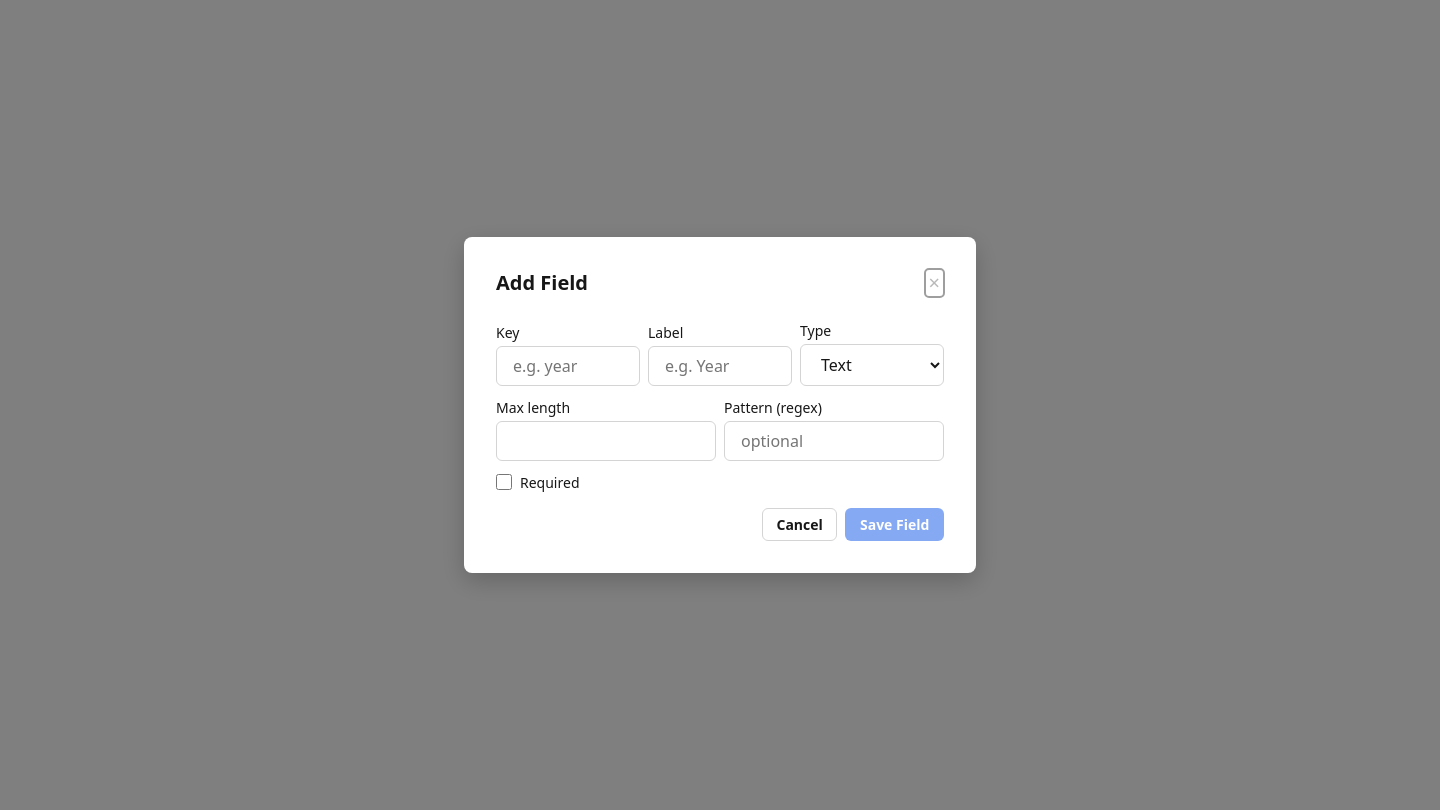
Test: MetadataFieldModal › rejects a duplicate key
Type "year" into the field labelled "Key" at coordinates (568, 366), box [496,346,640,386]
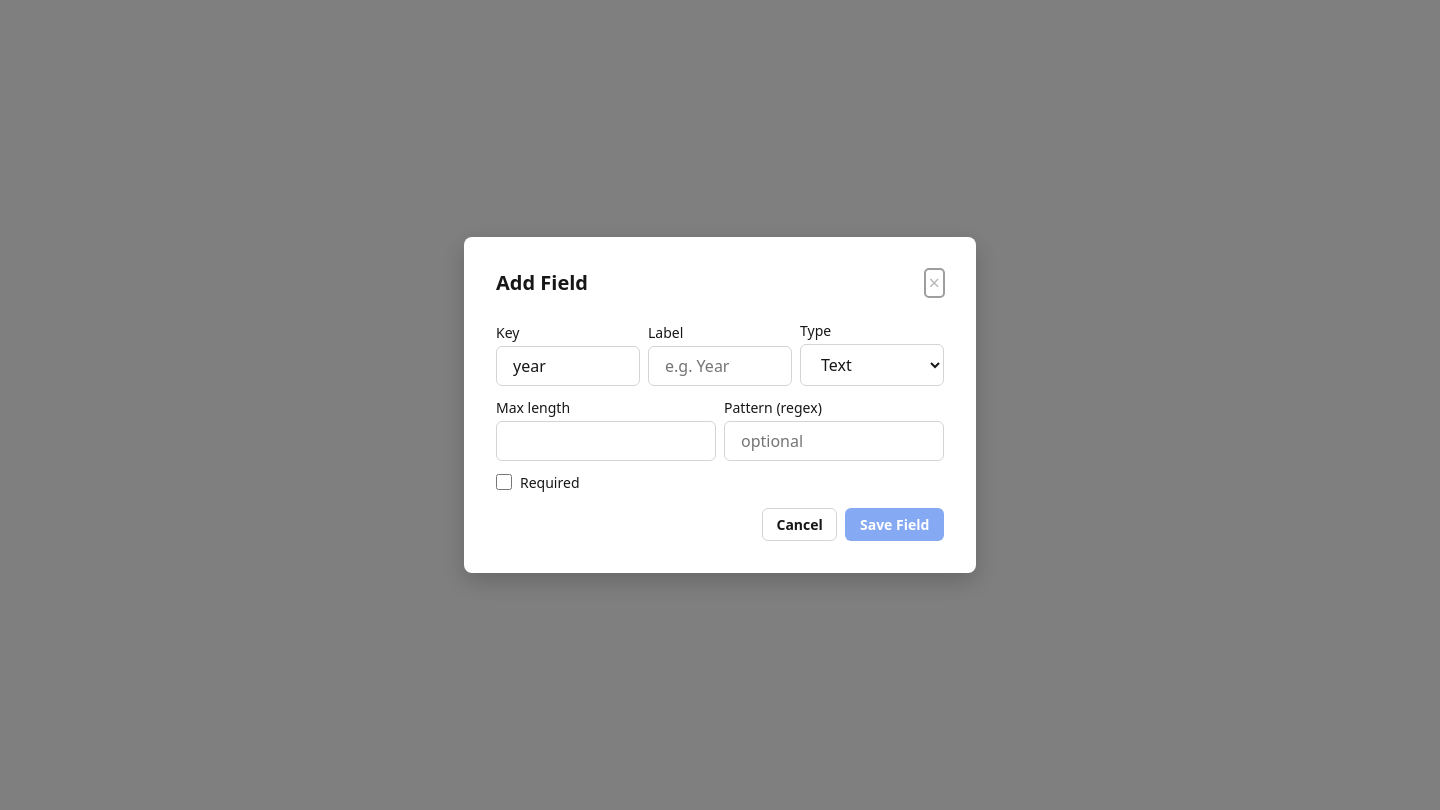
Type "Year" into the field labelled "Label" at coordinates (720, 366), box [648,346,792,386]
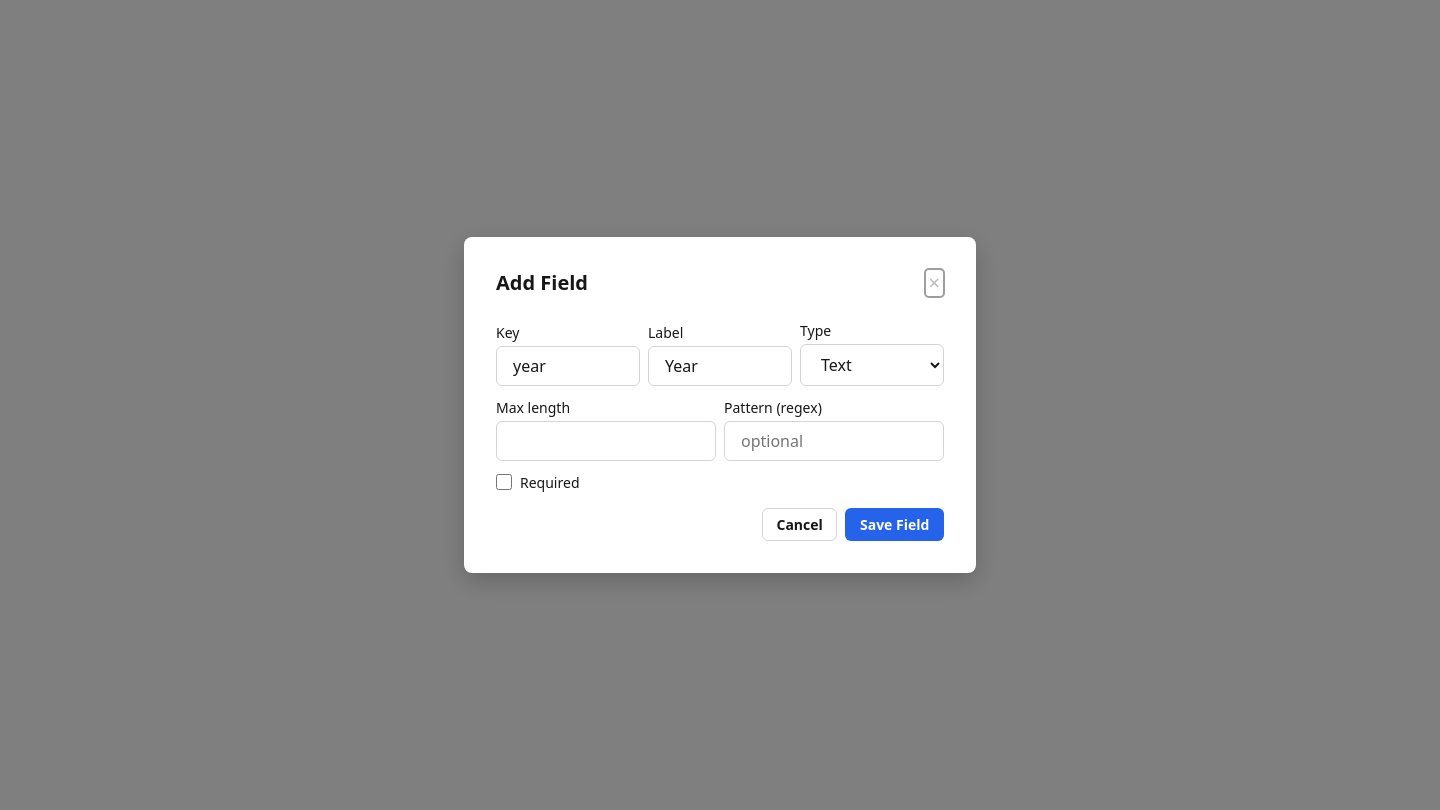
Click the button "Save Field" at coordinates (895, 524), box [845,508,944,541]
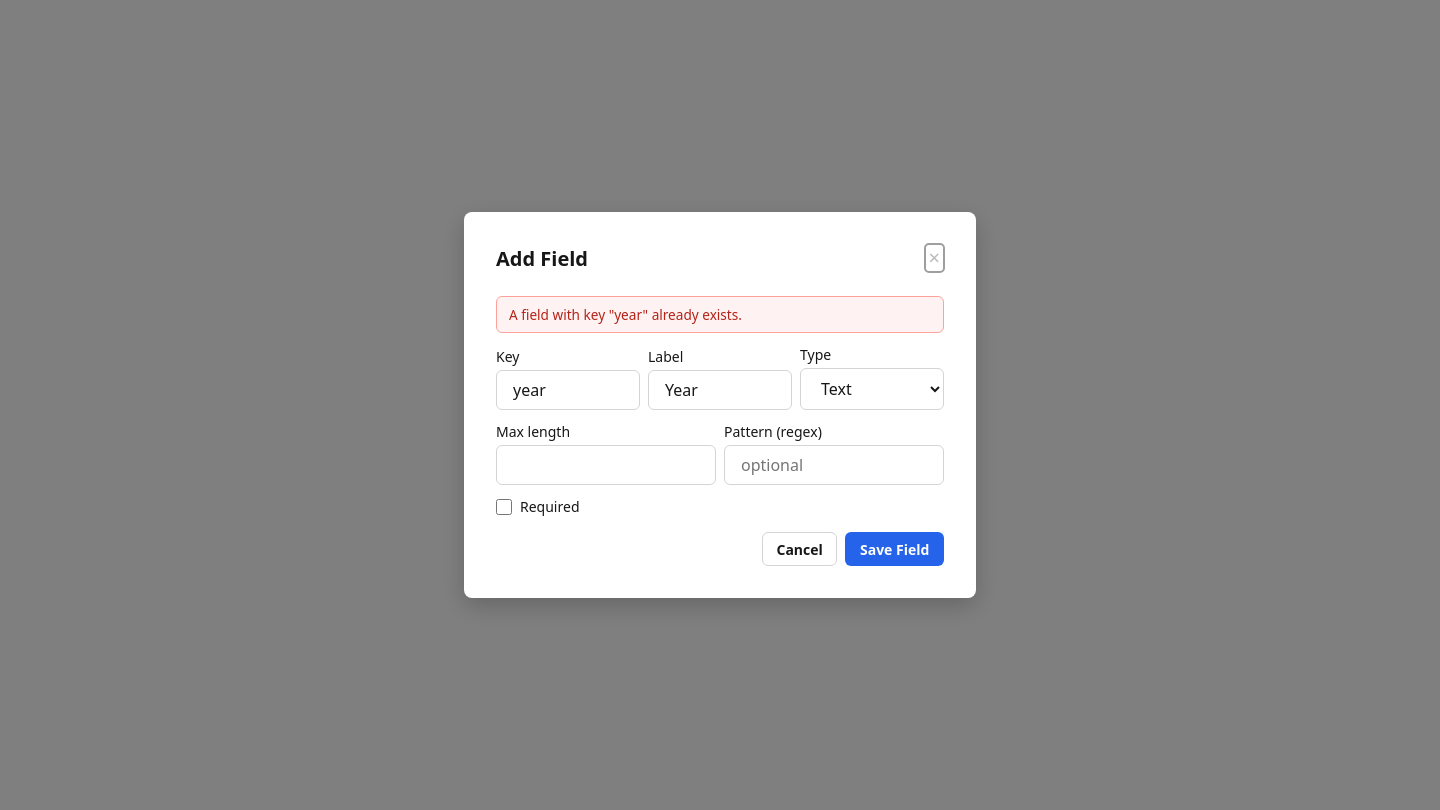
Now the text "A field with key \"year\" already exists." is shown, box [496,296,944,333]
